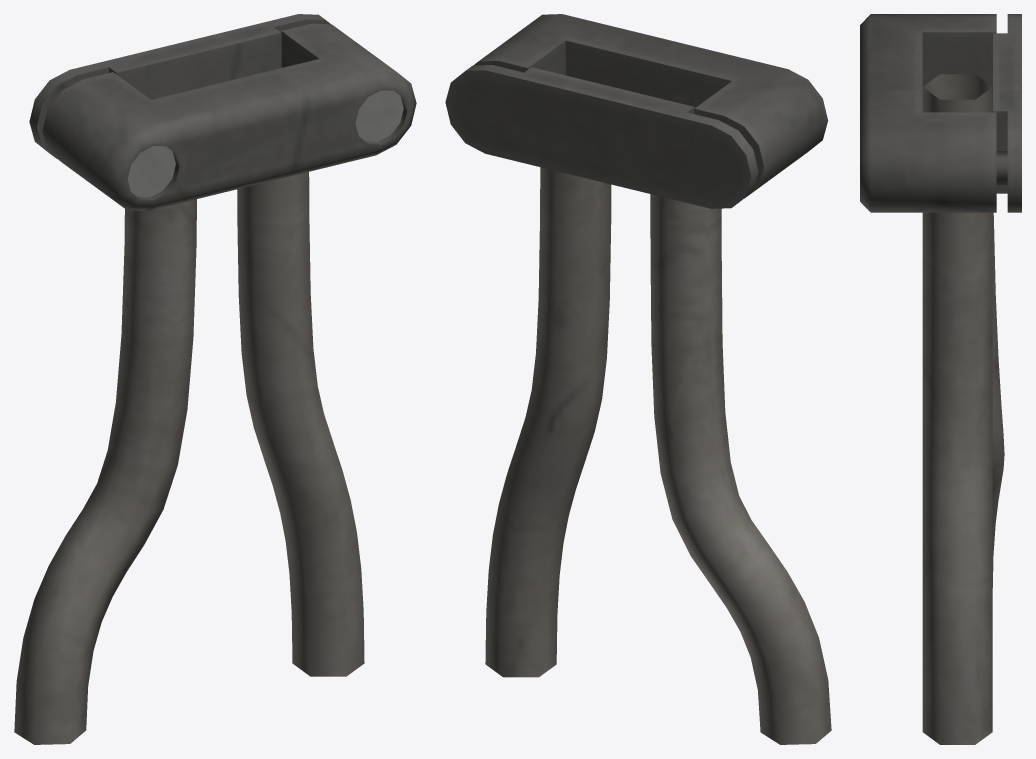
Rendered from cable_cable_to_double_2.fbx.
3 views of the same model, side by side, from view 1: azimuth 30°, elevation 25°; view 2: azimuth 150°, elevation 25°; view 3: azimuth 270°, elevation 25° (orthographic). The views are drawn at different scales.
Parts seen in each view (by area): view 1: modular_electric_cables__cable_to_double_2; view 2: modular_electric_cables__cable_to_double_2; view 3: modular_electric_cables__cable_to_double_2.
Boxes of the visible parts, x1,y1,x2,y2 form: modular_electric_cables__cable_to_double_2: (14, 14, 416, 744); modular_electric_cables__cable_to_double_2: (445, 14, 831, 744); modular_electric_cables__cable_to_double_2: (860, 14, 1021, 744).
Size of the model in its own units: 0.0628 by 0.1073 by 0.0259.
